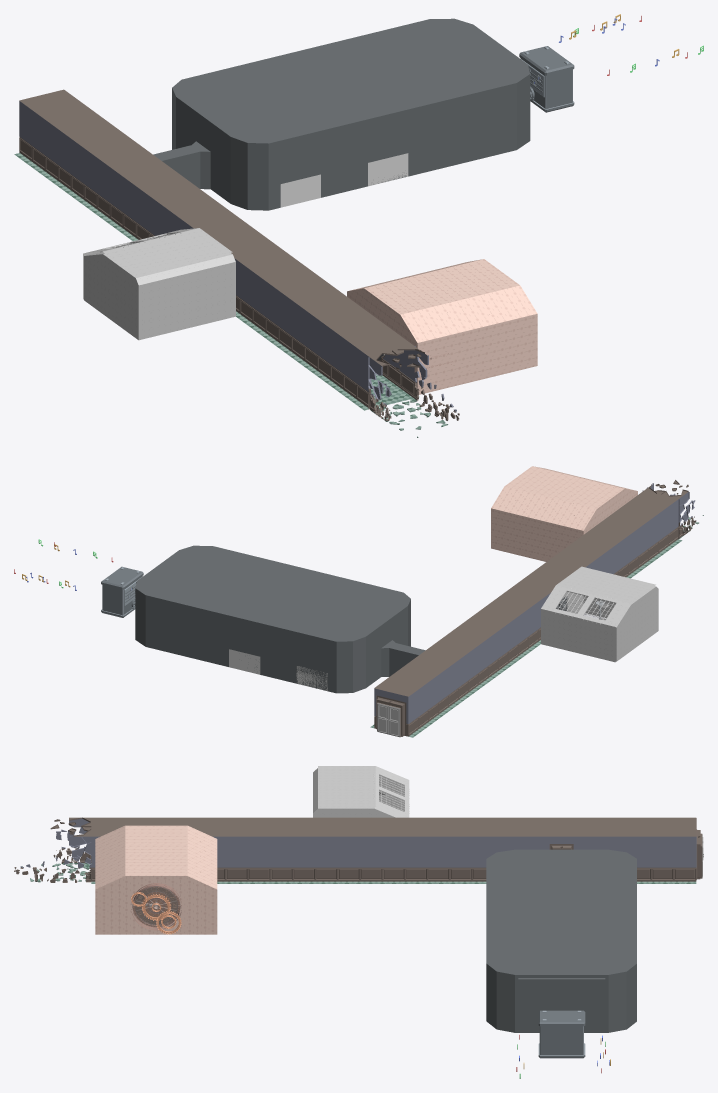
The model's file is MindPlace 2.fbx.
The picture shows the model from 3 angles, top to bottom: view 1: azimuth 30°, elevation 25°; view 2: azimuth 150°, elevation 25°; view 3: azimuth 270°, elevation 25°; orthographic projection. The views are drawn at different scales.
Visible parts, largest first — view 1: WallFrame.002, WallRoomClock, Ceiling, WallRoom, WallRoom.004, WallRoom.003, Floor, SafeBox.003, Cube.016, DestroyedWall.001, DestroyedWall.002, WallHall.038 (+18 smaller); view 2: WallFrame.002, Ceiling, WallRoomClock, WallRoom.004, WallRoom.003, SafeBox.003, Cube.016, Floor, WallHall.004, WallRoom, DestroyedWall.002, WallHall.009 (+13 smaller); view 3: WallFrame.002, Ceiling, WallRoomClock, WallRoom.004, SafeBox.003, WallRoomClock.001, WallHall.048, WallHall.016, WallHall.020, WallHall.026, WallHall.036, WallHall.046 (+19 smaller).
Boxes of the visible parts, <box> form: WallFrame.002: <box>153,18,530,210</box>; WallRoomClock: <box>347,259,537,394</box>; Ceiling: <box>19,90,413,356</box>; WallRoom: <box>85,232,235,340</box>; WallRoom.004: <box>83,228,232,299</box>; WallRoom.003: <box>84,254,138,339</box>; Floor: <box>14,153,419,410</box>; SafeBox.003: <box>519,46,574,112</box>; Cube.016: <box>280,153,408,207</box>; DestroyedWall.001: <box>414,346,459,420</box>; DestroyedWall.002: <box>368,357,391,421</box>; WallHall.038: <box>291,300,305,361</box>; WallFrame.002: <box>135,545,425,693</box>; Ceiling: <box>374,491,677,696</box>; WallRoomClock: <box>491,466,637,561</box>; WallRoom.004: <box>541,566,655,662</box>; WallRoom.003: <box>616,586,658,661</box>; SafeBox.003: <box>101,566,143,617</box>; Cube.016: <box>229,649,327,690</box>; Floor: <box>370,539,682,737</box>; WallHall.004: <box>374,688,408,736</box>; WallRoom: <box>555,586,655,661</box>; DestroyedWall.002: <box>678,492,696,539</box>; WallHall.009: <box>648,514,658,560</box>; WallFrame.002: <box>486,849,636,1032</box>; Ceiling: <box>91,817,696,836</box>; WallRoomClock: <box>95,825,217,934</box>; WallRoom.004: <box>318,766,409,817</box>; SafeBox.003: <box>538,1010,585,1058</box>; WallRoomClock.001: <box>125,876,187,934</box>; WallHall.048: <box>673,836,696,881</box>; WallHall.016: <box>315,836,337,881</box>; WallHall.020: <box>360,836,382,881</box>; WallHall.026: <box>427,836,449,881</box>; WallHall.036: <box>248,836,270,881</box>; WallHall.046: <box>651,836,673,881</box>.
Bounding box in the file's own units: 274 × 277 × 26.58.
72 materials, 13 textured.
